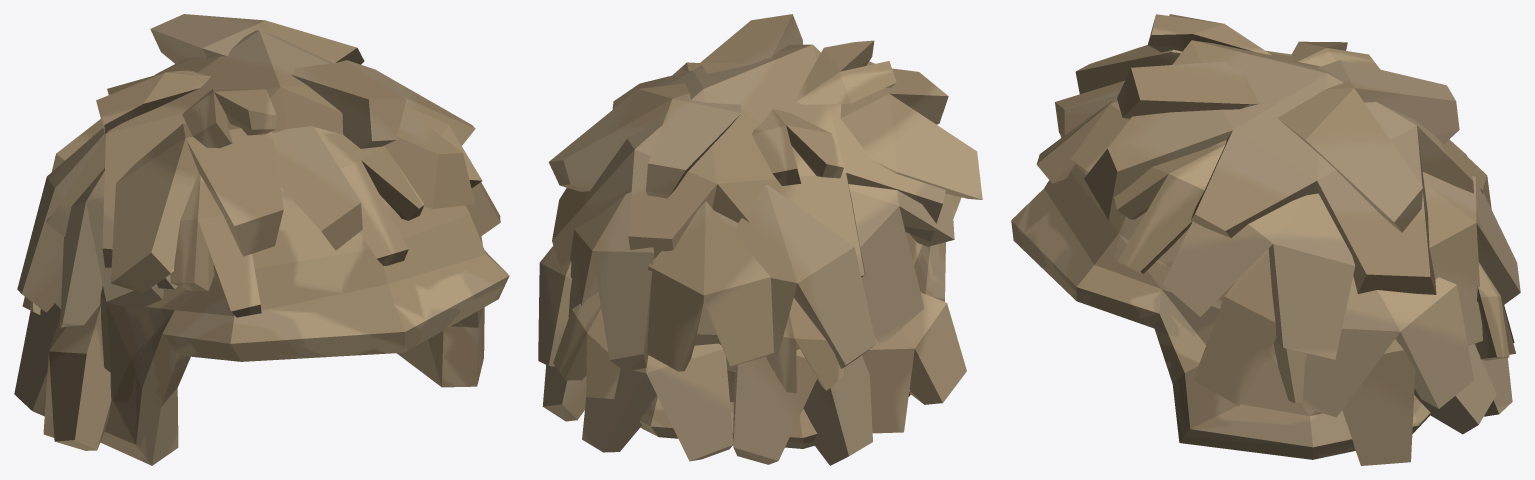
Rendered from SM_Chr_Attach_Helmet_03.fbx.
The picture shows the model from 3 angles, left to right: view 1: azimuth 30°, elevation 25°; view 2: azimuth 150°, elevation 25°; view 3: azimuth 270°, elevation 25°; orthographic projection. The views are drawn at different scales.
Visible parts, largest first — view 1: SM_Chr_Attach_Helmet_03; view 2: SM_Chr_Attach_Helmet_03; view 3: SM_Chr_Attach_Helmet_03.
Part boxes in pixels (<box>): SM_Chr_Attach_Helmet_03: <box>14,14,509,465</box>; SM_Chr_Attach_Helmet_03: <box>538,14,982,465</box>; SM_Chr_Attach_Helmet_03: <box>1011,14,1520,465</box>.
Bounding box in the file's own units: 36.63 × 31.05 × 40.75.
